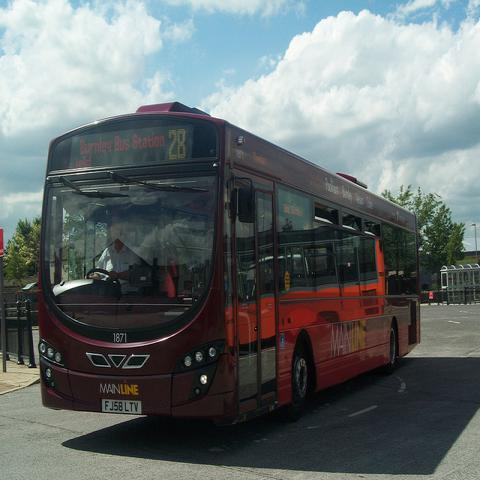bus: (41, 104, 420, 419)
